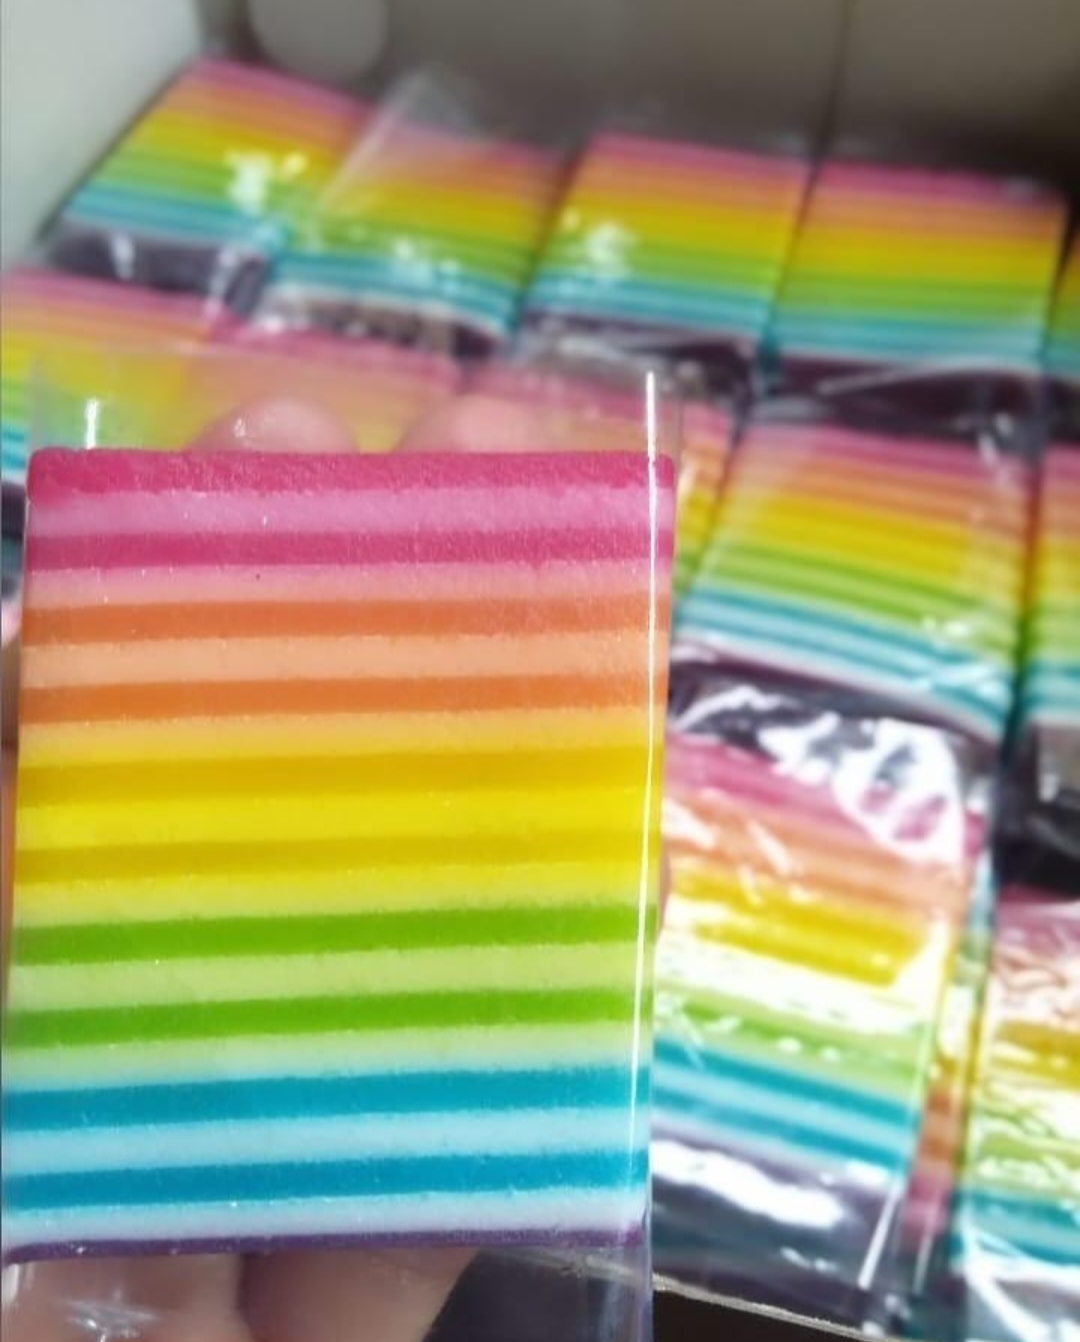kue_lapis_pelangi: (0, 446, 667, 1260)
